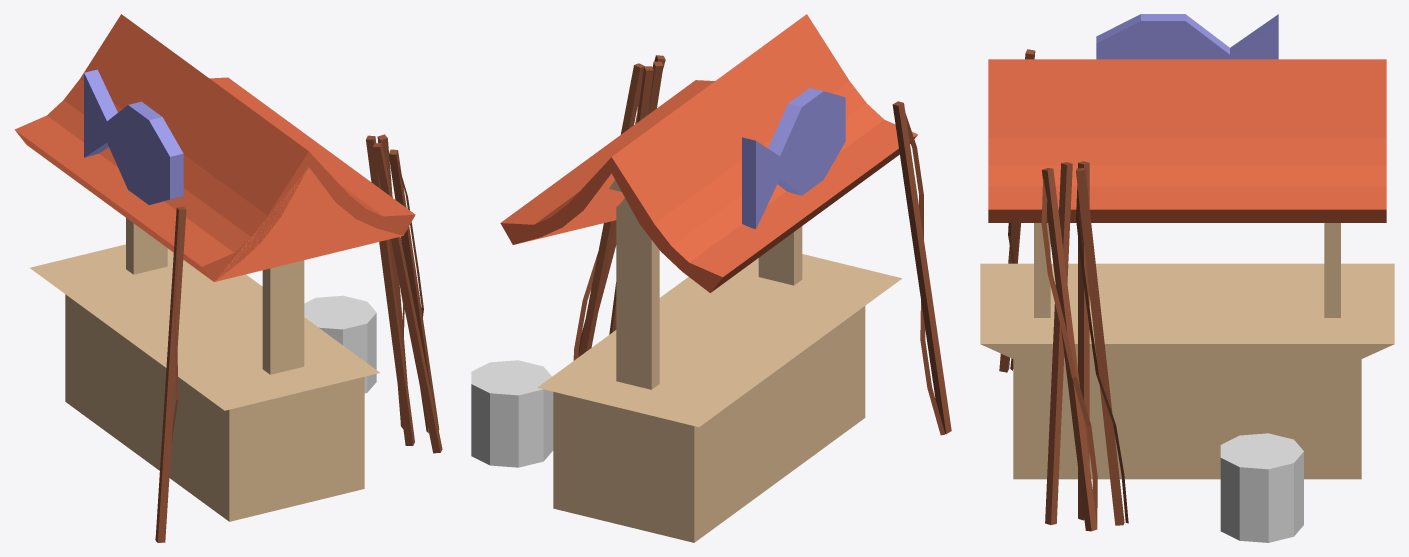
Rendered from fishing_stall.fbx.
The picture shows the model from 3 angles, left to right: view 1: azimuth 30°, elevation 25°; view 2: azimuth 150°, elevation 25°; view 3: azimuth 270°, elevation 25°; orthographic projection. The views are drawn at different scales.
Visible parts, largest first — view 1: fish; view 2: fish; view 3: fish.
Boxes of the visible parts, box(x1,y1,x2,y2) form: fish: box(14, 14, 442, 542); fish: box(471, 14, 951, 542); fish: box(980, 14, 1394, 542).
Size of the model in its own units: 77.45 by 80.03 by 78.12.
